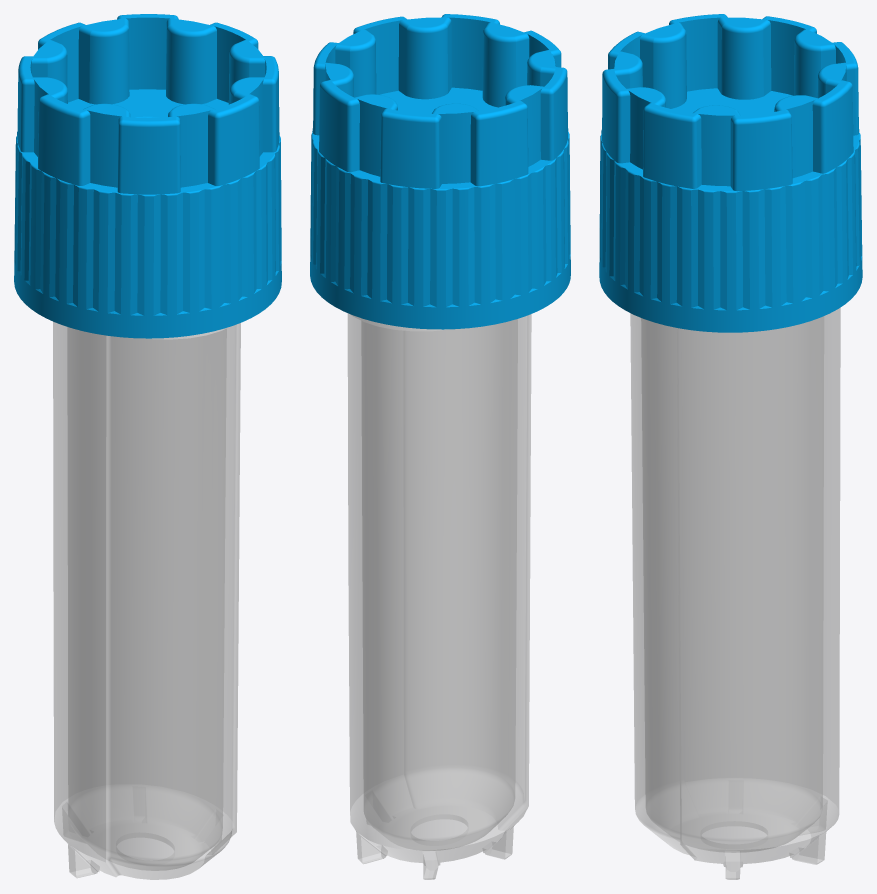
File: sample02.glb
3 renders of one model, left to right at view 1: azimuth 30°, elevation 25°; view 2: azimuth 150°, elevation 25°; view 3: azimuth 270°, elevation 25°, orthographic. The views are drawn at different scales.
Visible parts, largest first — view 1: Body1.002, Body1; view 2: Body1.002, Body1; view 3: Body1.002, Body1.
Part boxes in pixels (x1,y1,x2,y2): Body1.002: [53, 322, 240, 879]; Body1: [14, 14, 281, 338]; Body1.002: [347, 313, 531, 879]; Body1: [310, 14, 570, 329]; Body1.002: [630, 308, 840, 879]; Body1: [599, 14, 862, 332].
Size of the model in its own units: 0.0214 by 0.0701 by 0.0214.
